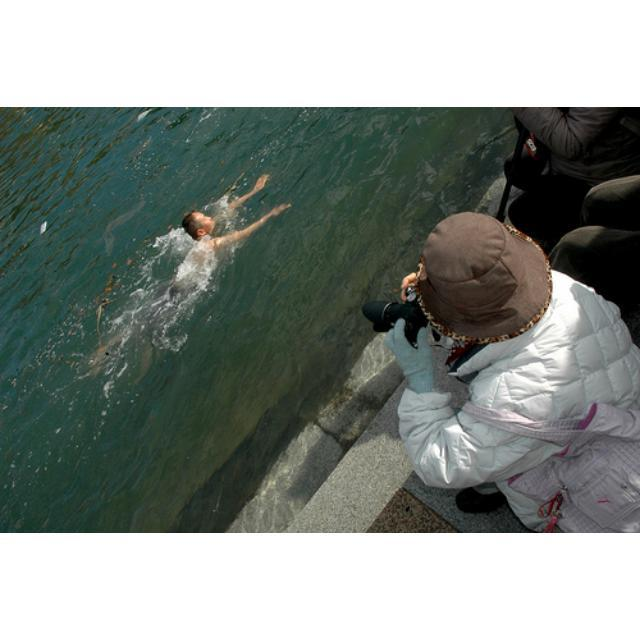human: (182, 166, 293, 279)
